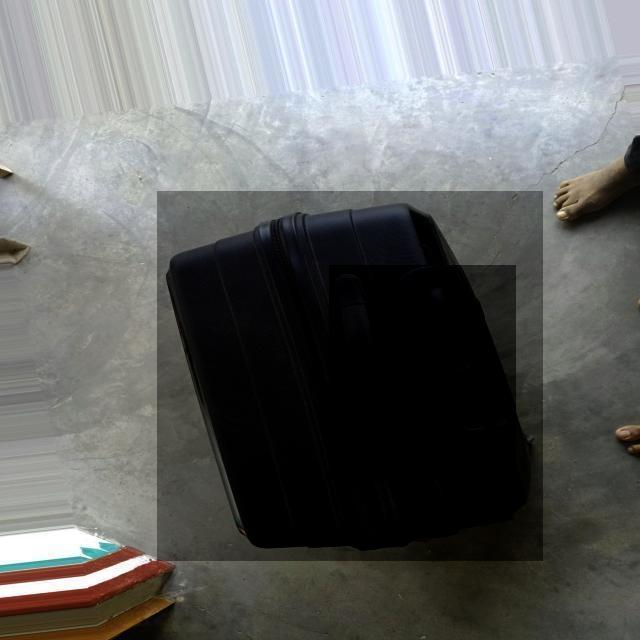Suitcase: (158, 195, 532, 558)
